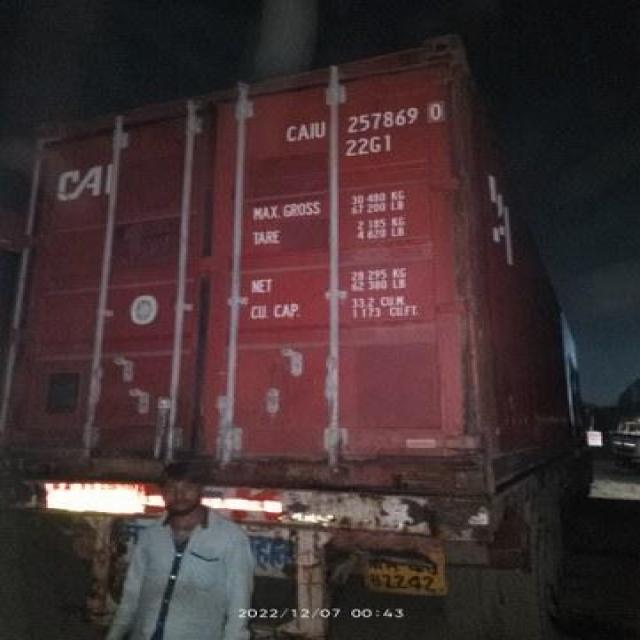ISO: (342, 133, 401, 160)
container_number: (278, 85, 451, 151)
